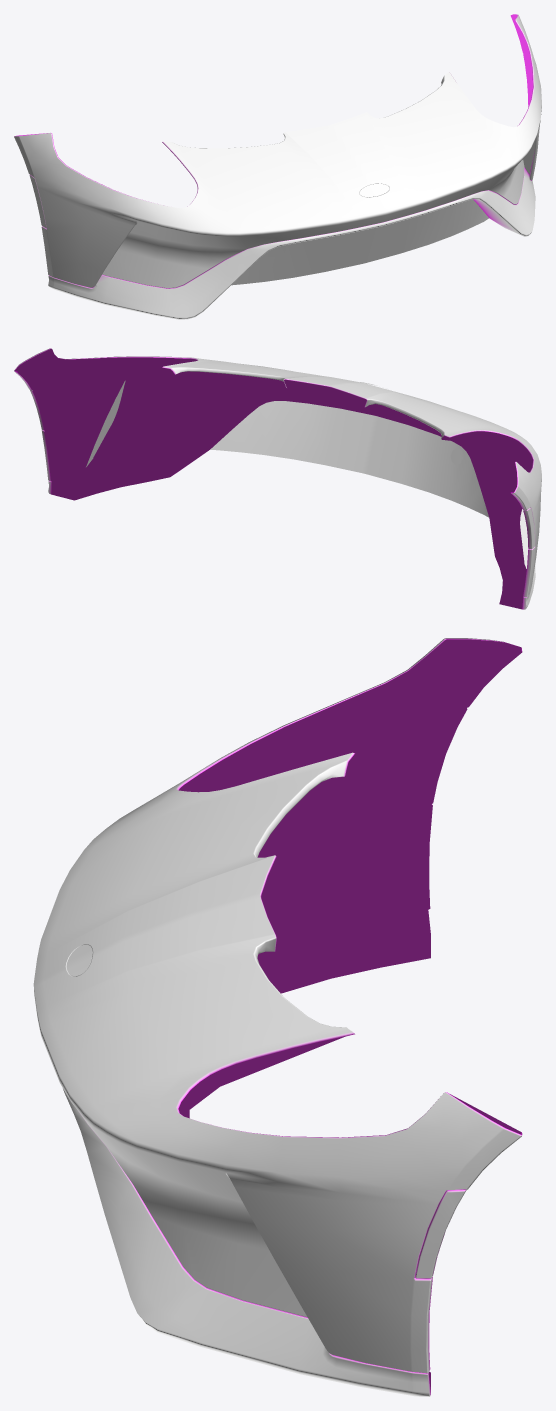
The model's file is Car_Ford_GT_2017_BumperF_SetE.fbx.
3 renders of one model, top to bottom at view 1: azimuth 30°, elevation 25°; view 2: azimuth 150°, elevation 25°; view 3: azimuth 270°, elevation 25°, orthographic. The views are drawn at different scales.
Parts seen in each view (by area): view 1: BumperF 6; view 2: BumperF 6; view 3: BumperF 6.
Part boxes in pixels (box(x1,y1,x2,y2)): BumperF 6: box(14, 14, 541, 319); BumperF 6: box(14, 348, 541, 609); BumperF 6: box(33, 638, 522, 1396).
Size of the model in its own units: 1.95 by 0.5584 by 0.8244.
